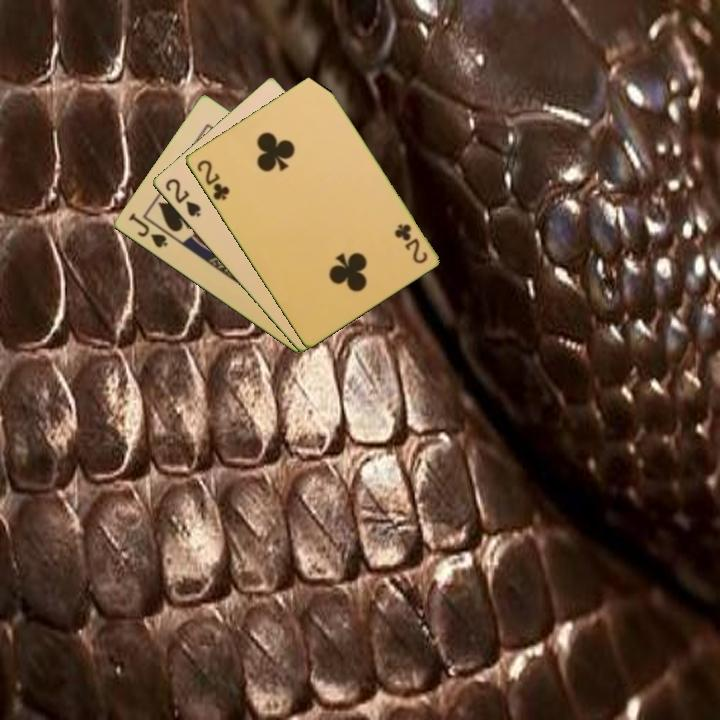2c: (193, 156, 232, 203), (391, 220, 430, 267)
2s: (161, 175, 203, 220)
Js: (125, 209, 171, 251)
